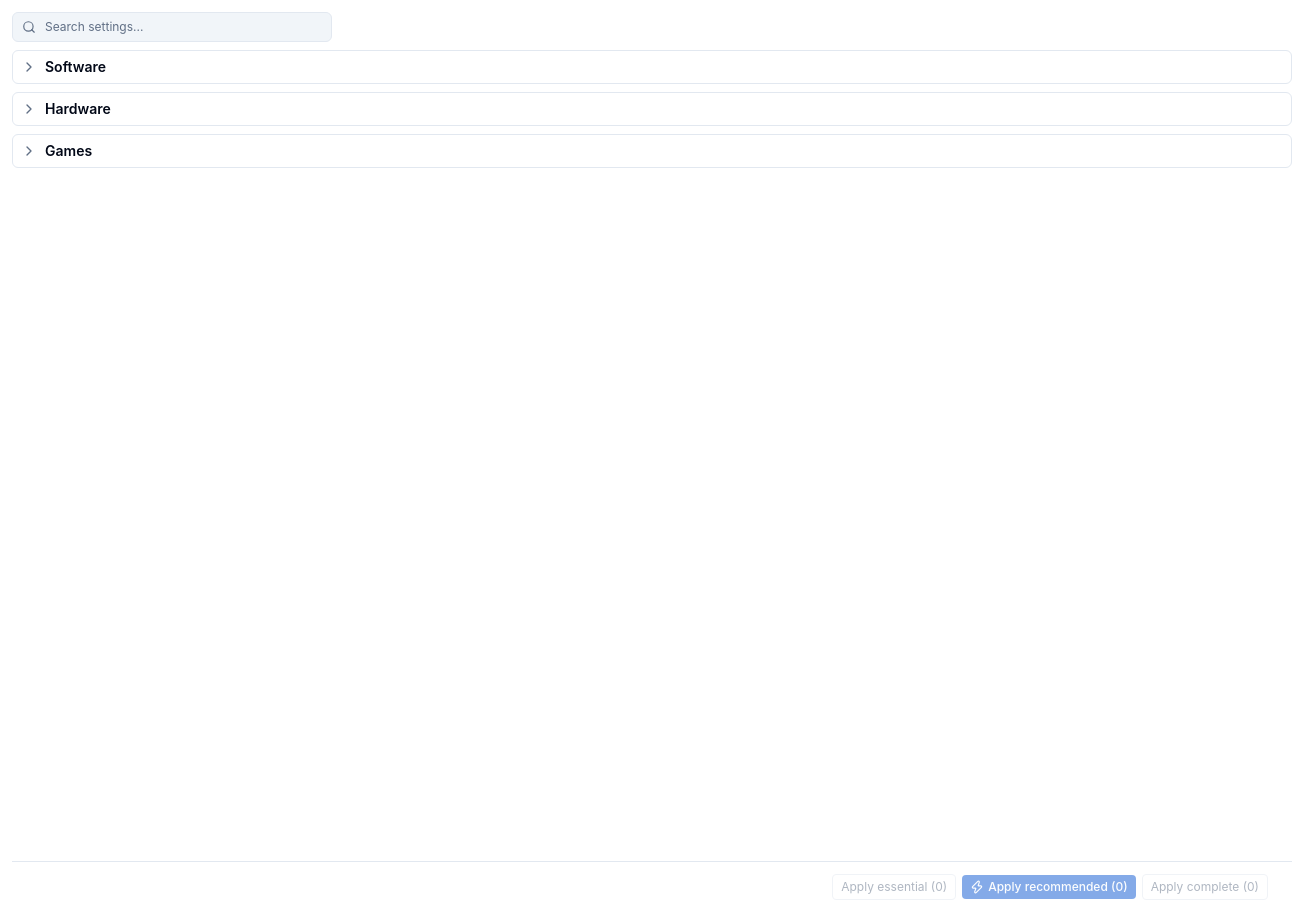
Test: a check that read nothing says so on its line › gives the detector's own reason when it had one
This screenshot has width=1292, height=912.
Step 1. Click the button "Software" → (76,66), box [21,57,1275,77]
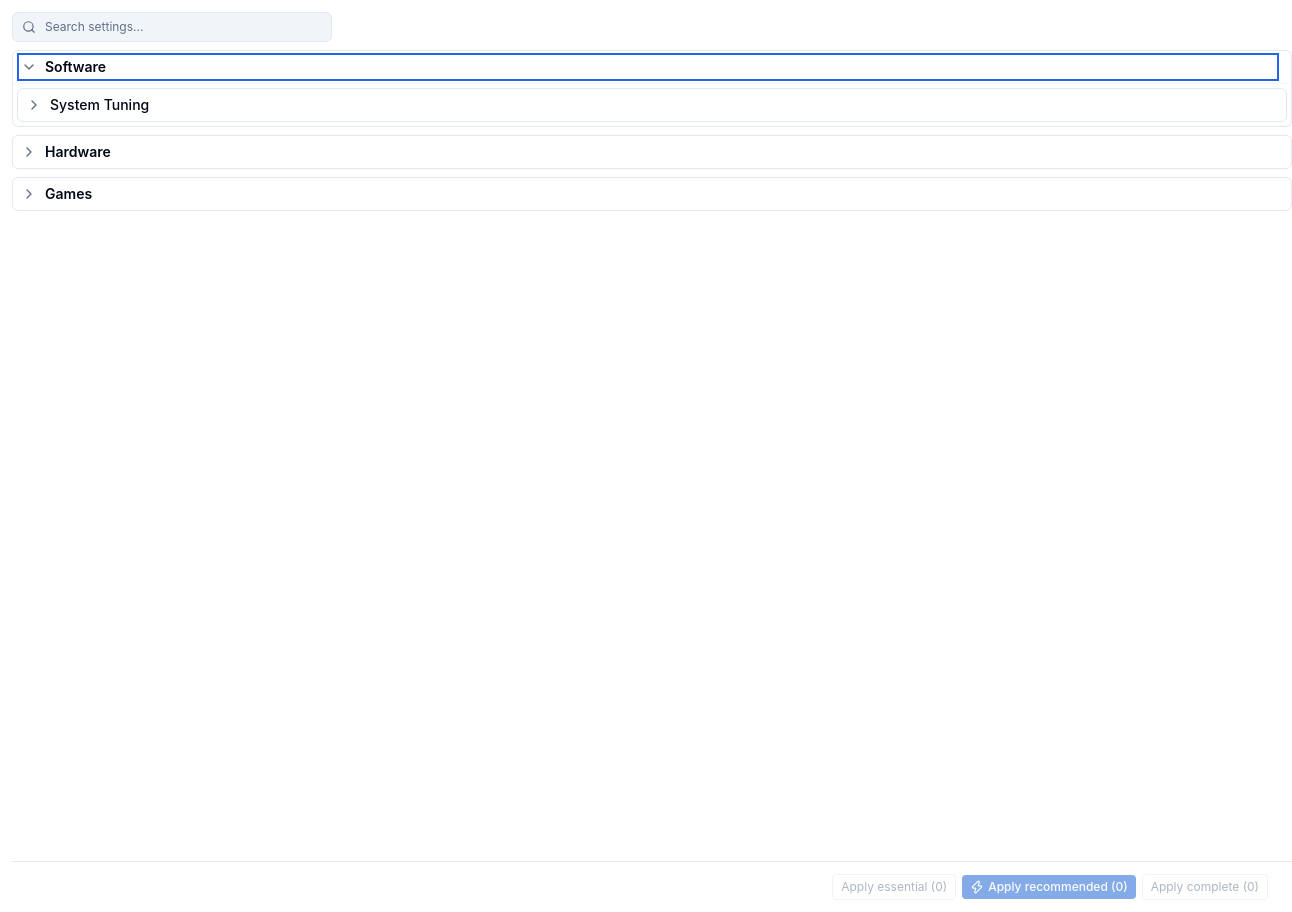
Step 2. Click the button "System Tuning" → (100,104), box [26,95,1270,115]
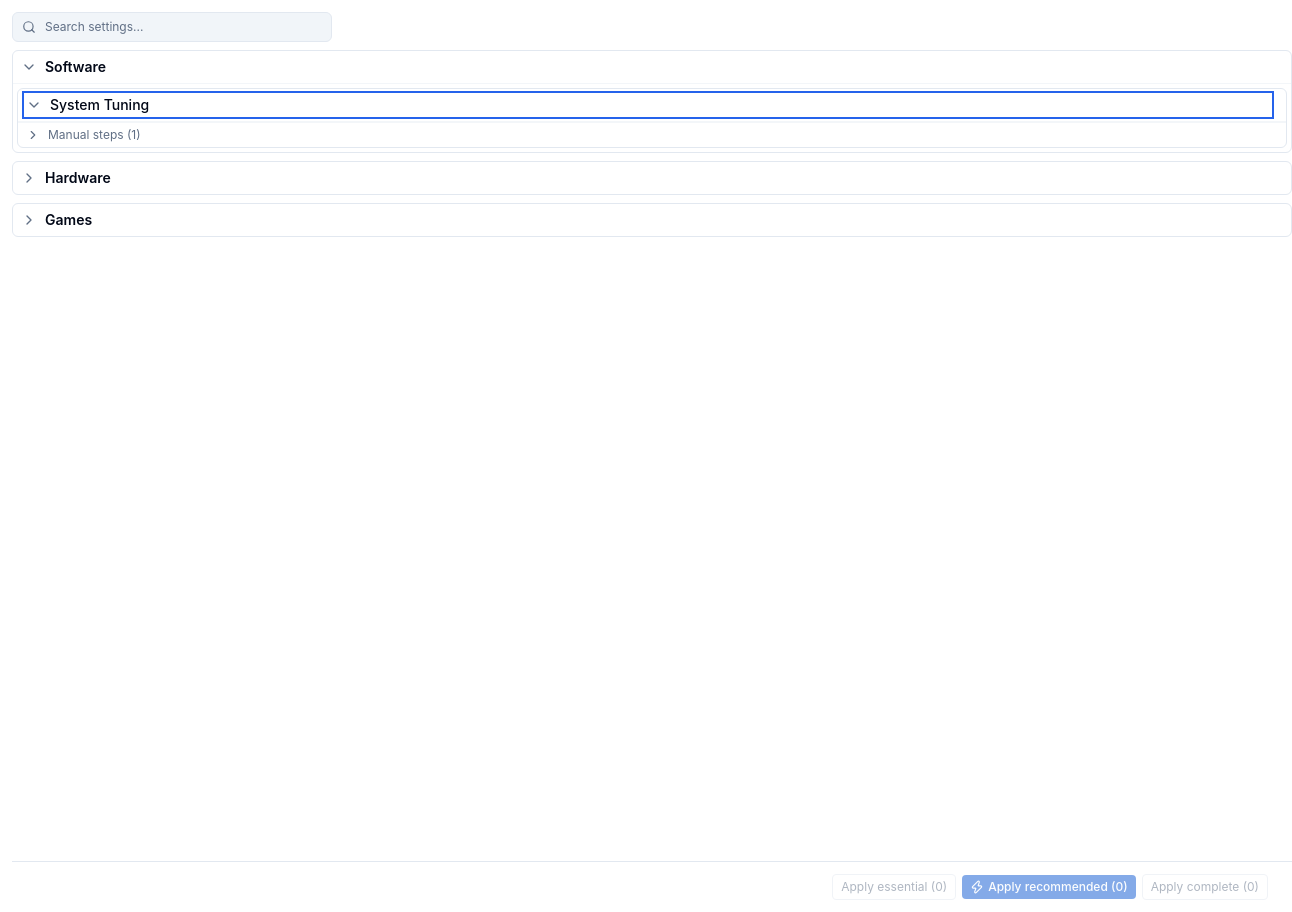
Step 3. Click the button "Manual steps (1)" → (94,134), box [18,123,1286,147]
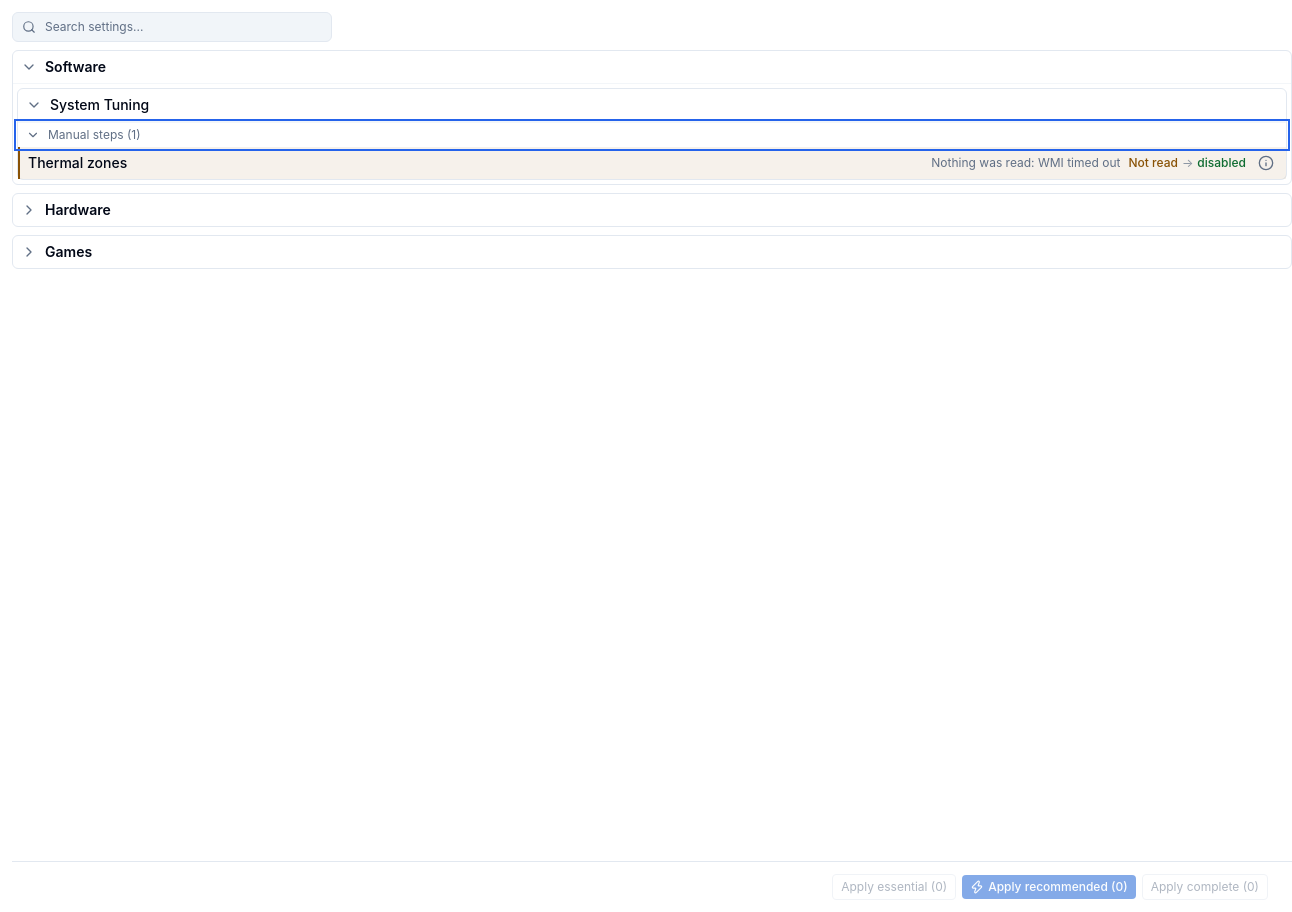
Expected: the text "Nothing was read: WMI timed out" is shown, [931,155,1120,171]
